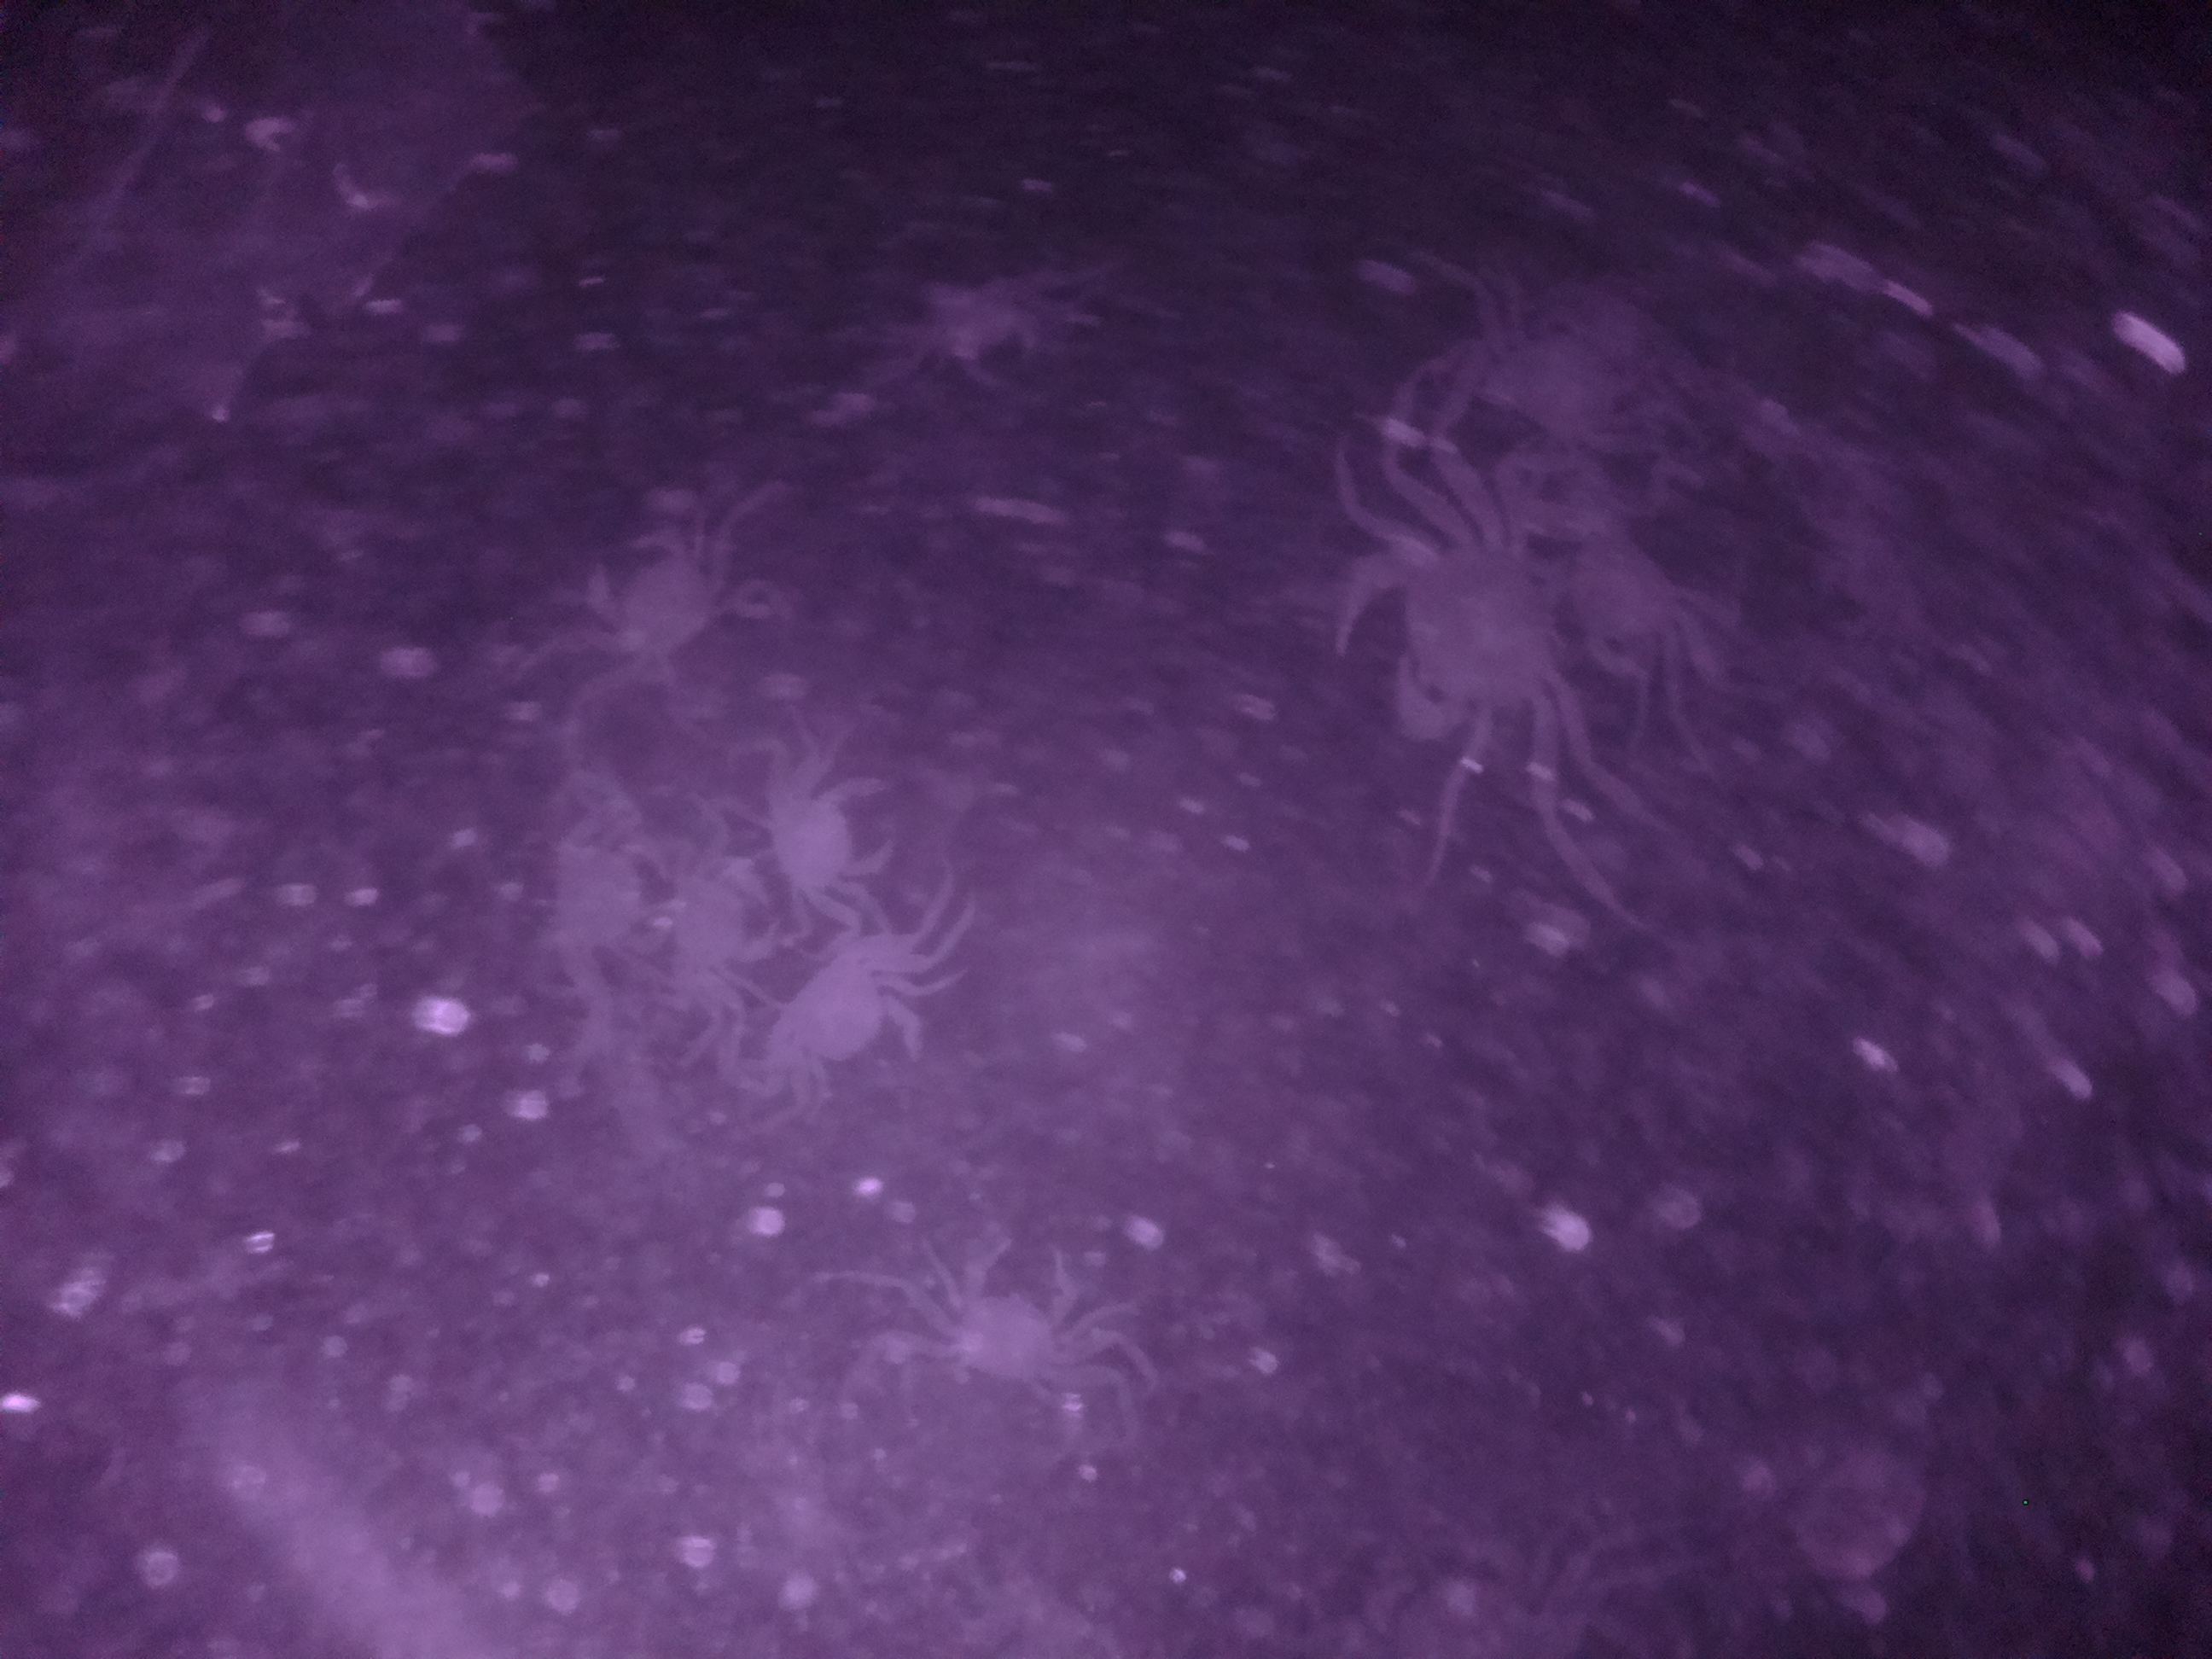Crab: (1318, 491, 1608, 770), (935, 1197, 1103, 1424), (758, 925, 935, 1126), (740, 749, 909, 936)
